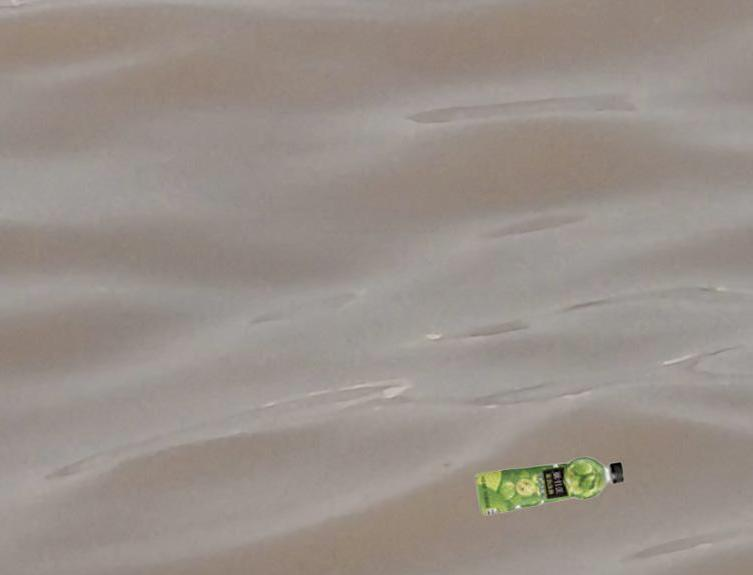Plastic: (472, 458, 627, 515)
